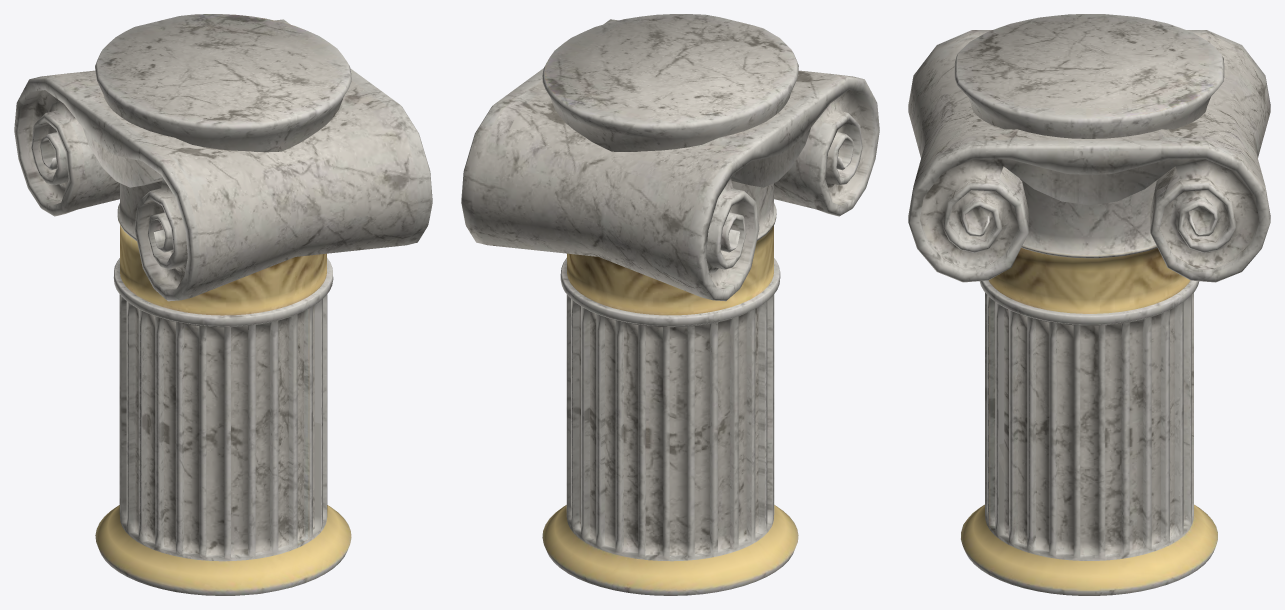
The model's file is MarbleColumn-transformed.glb.
3 views of the same model, side by side, from view 1: azimuth 30°, elevation 25°; view 2: azimuth 150°, elevation 25°; view 3: azimuth 270°, elevation 25° (orthographic).
Visible parts, largest first — view 1: Small_Column_Column_0; view 2: Small_Column_Column_0; view 3: Small_Column_Column_0.
Boxes of the visible parts, x1,y1,x2,y2 form: Small_Column_Column_0: [14, 14, 432, 595]; Small_Column_Column_0: [461, 14, 879, 595]; Small_Column_Column_0: [908, 14, 1270, 595].
Bounding box in the file's own units: 0.5892 × 1.11 × 0.7648.
Materials: 1 (1 with a texture image).
